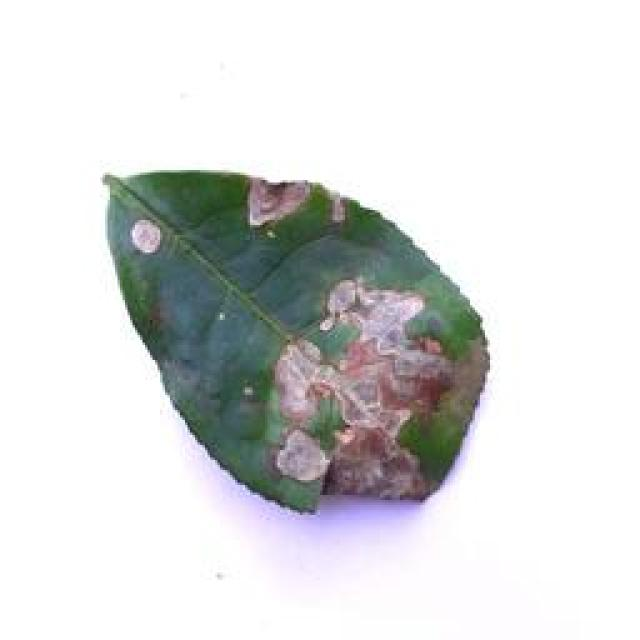Gray Blight: (100, 166, 488, 511)
